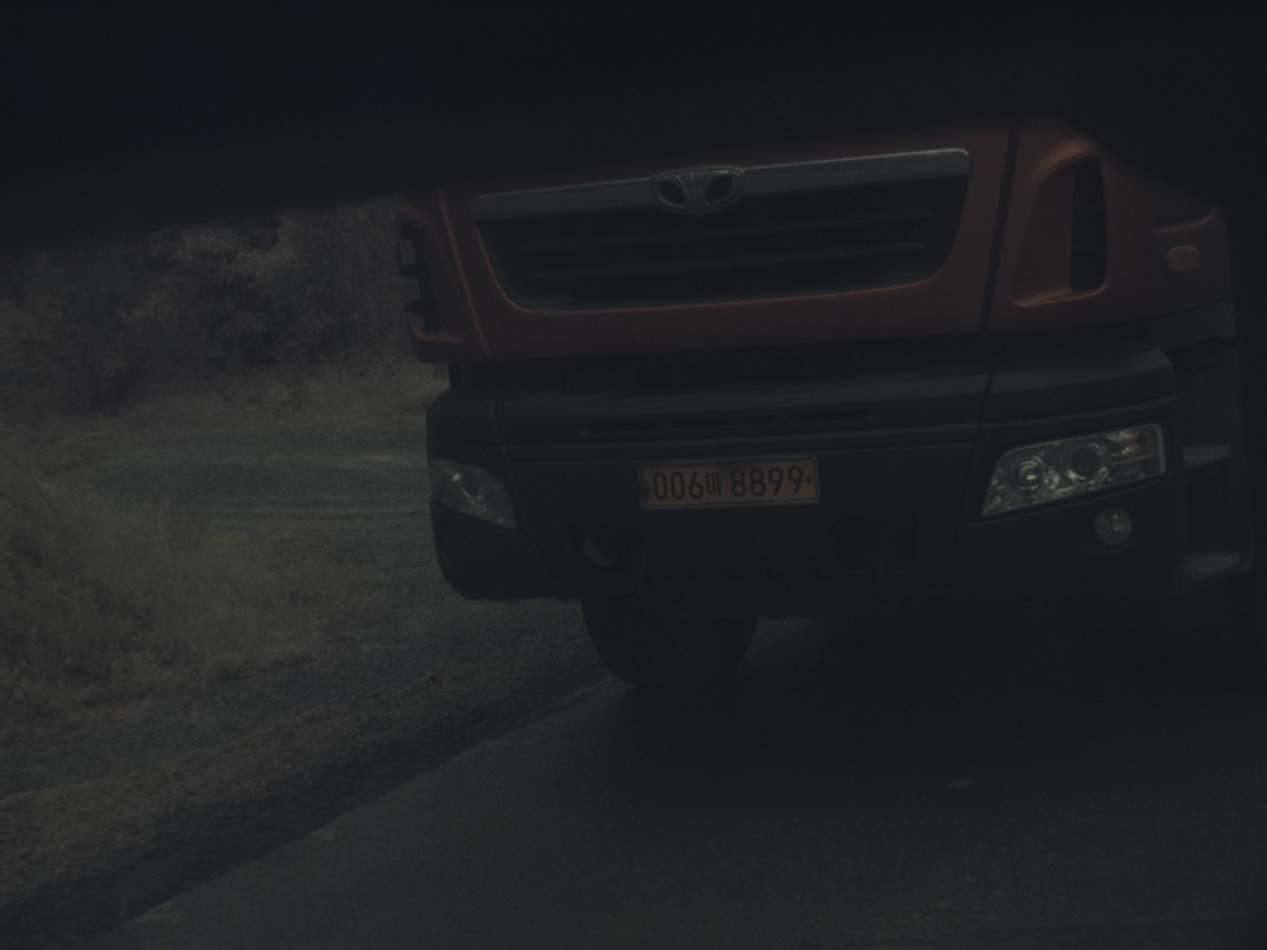license_plate: (641, 458, 817, 508)
truck: (401, 121, 1252, 683)
